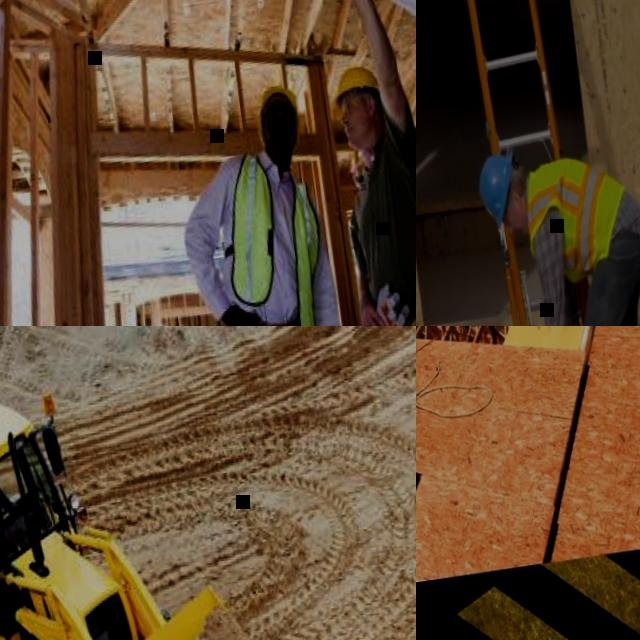Hardhat: (473, 146, 526, 236), (254, 83, 304, 147), (329, 66, 380, 99)
NO-Mask: (344, 114, 376, 152), (267, 111, 294, 138), (512, 200, 530, 237)
NO-Safety Vest: (348, 136, 416, 326)
Person: (159, 76, 366, 326), (303, 0, 416, 326), (472, 126, 640, 326), (0, 473, 21, 539)
Safety Vest: (218, 148, 334, 326), (520, 151, 637, 281)
machinery: (0, 326, 293, 640)
